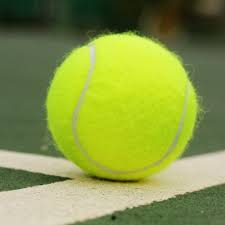tennis_ball: (45, 31, 199, 183)
